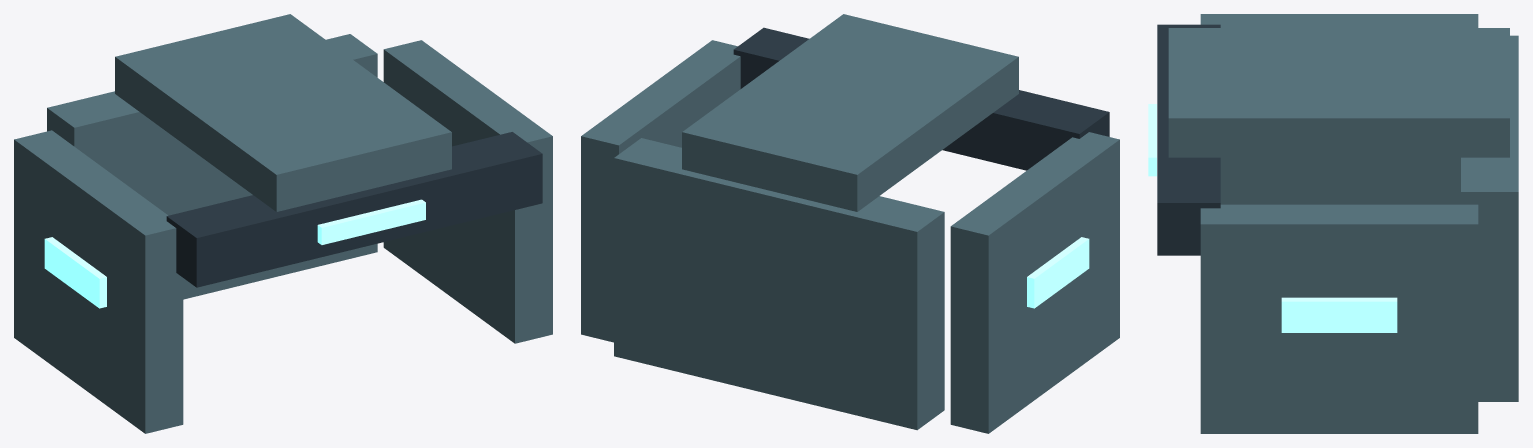
Rendered from field_helmet_worn.glb.
The picture shows the model from 3 angles, left to right: view 1: azimuth 30°, elevation 25°; view 2: azimuth 150°, elevation 25°; view 3: azimuth 270°, elevation 25°; orthographic projection. The views are drawn at different scales.
Parts seen in each view (by area): view 1: Crown between horns, Helmet side, Helmet side.001, Brow guard, Helmet back, Brow identification, Side identification; view 2: Helmet back, Crown between horns, Helmet side, Helmet side.001, Brow guard, Side identification; view 3: Helmet side.001, Crown between horns, Helmet side, Helmet back, Brow guard, Side identification.001, Brow identification.
Part boxes in pixels (bbox=[...]): Crown between horns: bbox=[115, 14, 451, 211]; Helmet side: bbox=[14, 130, 183, 433]; Helmet side.001: bbox=[383, 40, 552, 343]; Brow guard: bbox=[166, 132, 542, 287]; Helmet back: bbox=[47, 34, 377, 299]; Brow identification: bbox=[317, 199, 425, 244]; Side identification: bbox=[44, 237, 106, 308]; Helmet back: bbox=[614, 138, 944, 430]; Crown between horns: bbox=[682, 14, 1018, 211]; Helmet side: bbox=[950, 132, 1119, 433]; Helmet side.001: bbox=[581, 40, 740, 342]; Brow guard: bbox=[733, 27, 1109, 170]; Side identification: bbox=[1027, 237, 1089, 308]; Helmet side.001: bbox=[1200, 204, 1478, 433]; Crown between horns: bbox=[1168, 28, 1509, 157]; Helmet side: bbox=[1200, 14, 1478, 204]; Helmet back: bbox=[1461, 35, 1518, 401]; Brow guard: bbox=[1157, 24, 1220, 255]; Side identification.001: bbox=[1281, 297, 1397, 332]; Brow identification: bbox=[1148, 104, 1156, 176].
Bounding box in the file's own units: 0.892 × 0.4875 × 0.6405.
